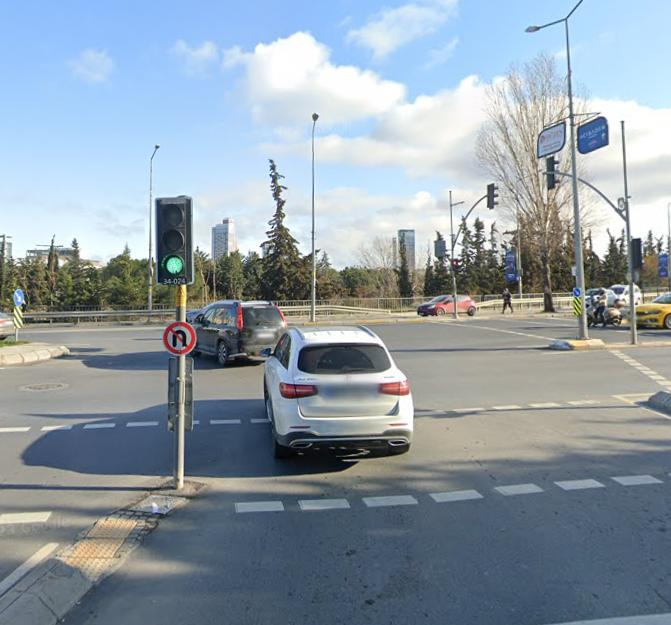greenlight: (159, 197, 190, 277)
